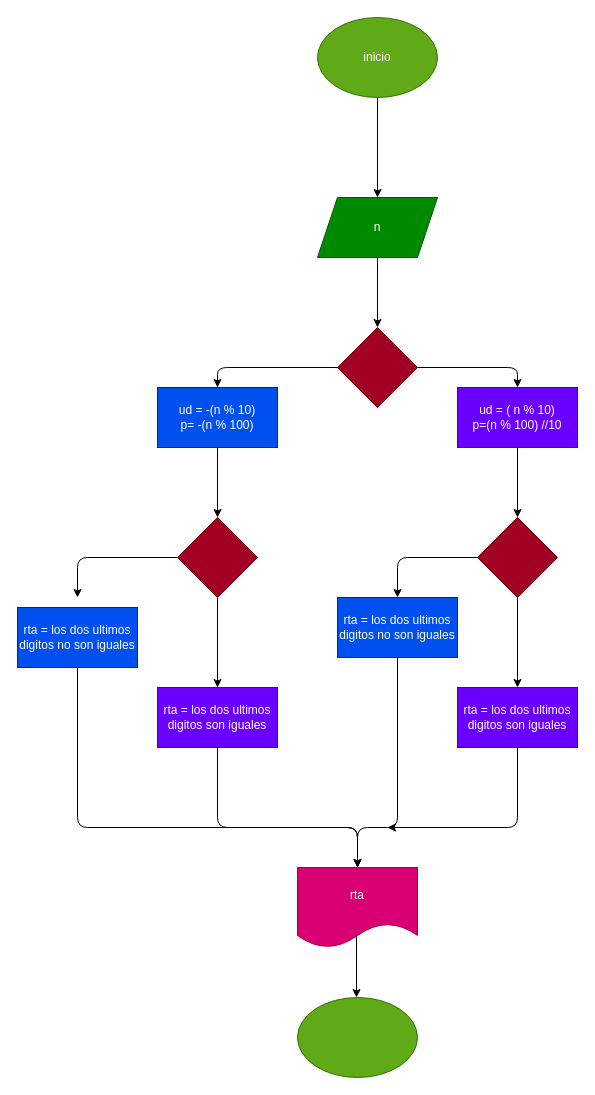
This 595x1095 diagram has some shape labels left out. The centre of each missing label's shape, as x and y in pixels:
"fin" goes at pixel 357 1037.
"n>0" goes at pixel 377 367.
"ud ==p" goes at pixel 217 557.
"ud==p" goes at pixel 517 557.
